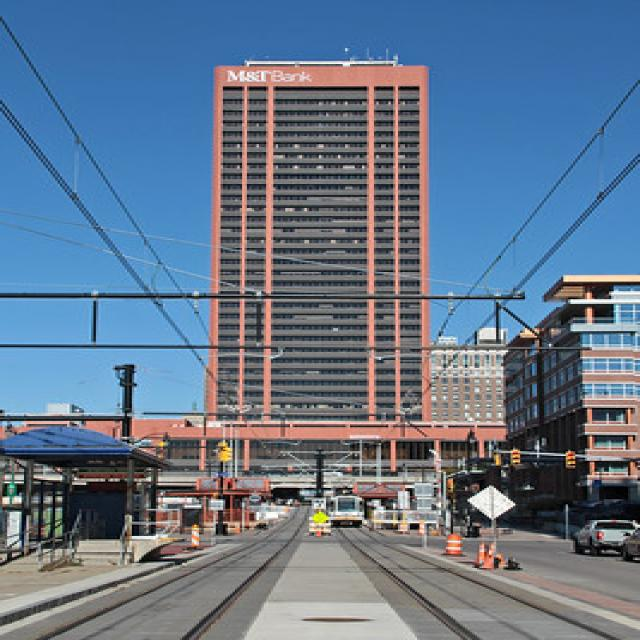Normal_building: (202, 49, 438, 524)
